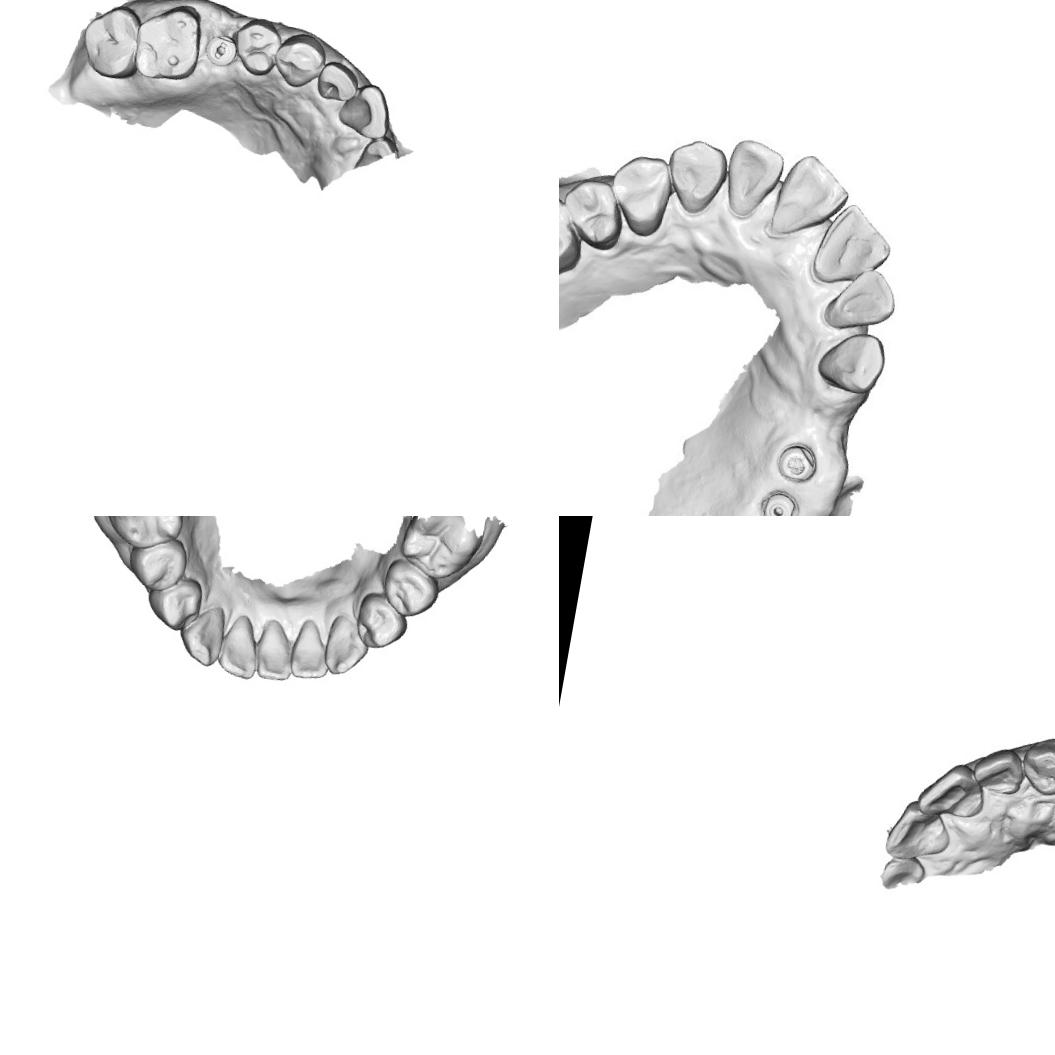canine: (658, 130, 730, 218), (812, 324, 890, 398), (268, 27, 331, 95), (172, 602, 231, 671), (320, 611, 372, 678), (1015, 731, 1055, 800)
implant: (773, 440, 823, 489), (761, 486, 803, 516)
implant_minus: (200, 28, 241, 72)
incisor: (807, 194, 899, 292), (766, 145, 859, 238), (820, 258, 907, 337), (717, 134, 787, 216), (911, 755, 988, 827), (880, 798, 956, 868), (332, 77, 398, 146), (214, 612, 266, 681), (968, 742, 1030, 798), (254, 618, 302, 685), (288, 617, 335, 683), (312, 48, 362, 107)
molar: (126, 0, 208, 87), (395, 516, 484, 584), (74, 0, 146, 82), (96, 516, 188, 552), (559, 181, 588, 288)
premolar: (600, 148, 680, 243), (559, 171, 630, 257), (125, 533, 191, 597), (227, 12, 287, 80), (142, 570, 205, 633), (378, 558, 440, 620), (350, 589, 410, 653)
